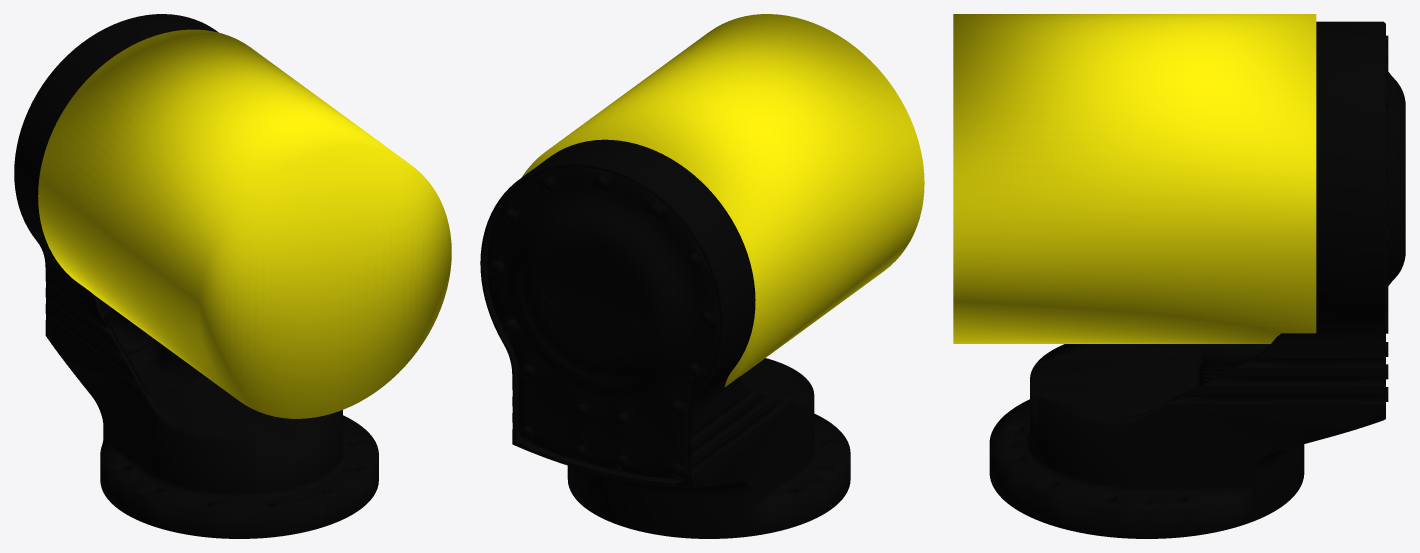
3 renders of one model, left to right at view 1: azimuth 30°, elevation 25°; view 2: azimuth 150°, elevation 25°; view 3: azimuth 270°, elevation 25°, orthographic. The views are drawn at different scales.
Visible parts, largest first — view 1: transform1; view 2: transform1; view 3: transform1.
Part boxes in pixels (x1=…): transform1: x1=14, y1=14, x2=451, y2=538; transform1: x1=480, y1=14, x2=924, y2=538; transform1: x1=953, y1=14, x2=1405, y2=538.
Size of the model in its own units: 10.9 by 16.15 by 14.95.
1 material, 1 textured.
